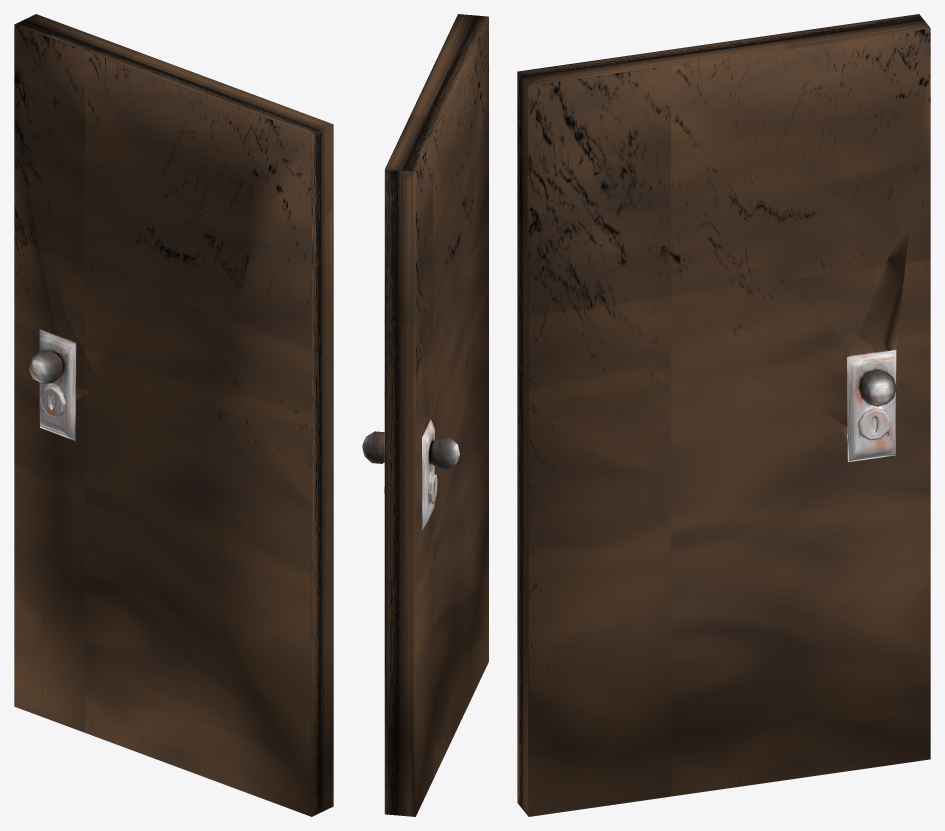
File: Cabin Door.obj
3 renders of one model, left to right at view 1: azimuth 30°, elevation 25°; view 2: azimuth 150°, elevation 25°; view 3: azimuth 270°, elevation 25°, orthographic. The views are drawn at different scales.
Visible parts, largest first — view 1: Door; view 2: Door; view 3: Door.
Part boxes in pixels (left/top/right/bottom): Door: left=14, top=14, right=333, bottom=816; Door: left=362, top=14, right=488, bottom=816; Door: left=517, top=14, right=930, bottom=816.
Bounding box in the file's own units: 0.5608 × 2.42 × 1.24.
